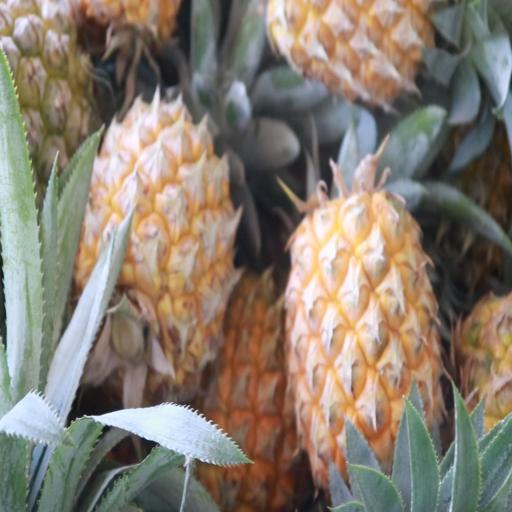Pineapple - v8 v1: (290, 202, 441, 510), (84, 103, 234, 392), (196, 276, 308, 512)
